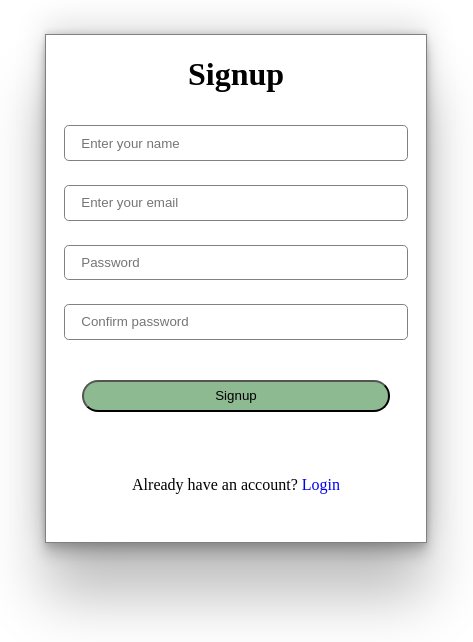
Test: testing login component › testing inputs of signup component
In the field with placeholder "Enter your name": {"x": 236, "y": 143} [64,125,408,161], type "rutik"
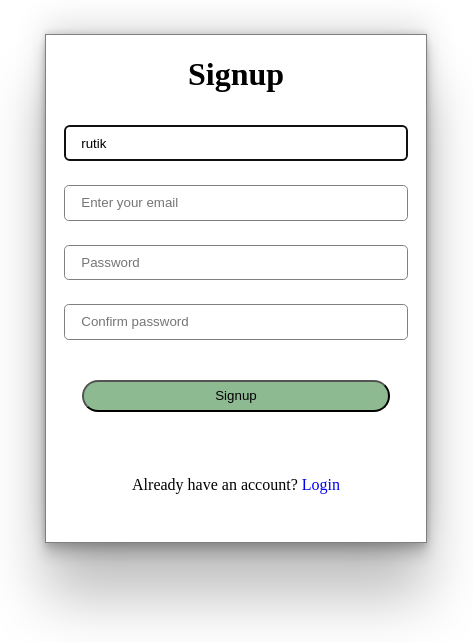
In the field with placeholder "Enter your email": {"x": 236, "y": 203} [64,185,408,221], type "rahul@gmail.com"
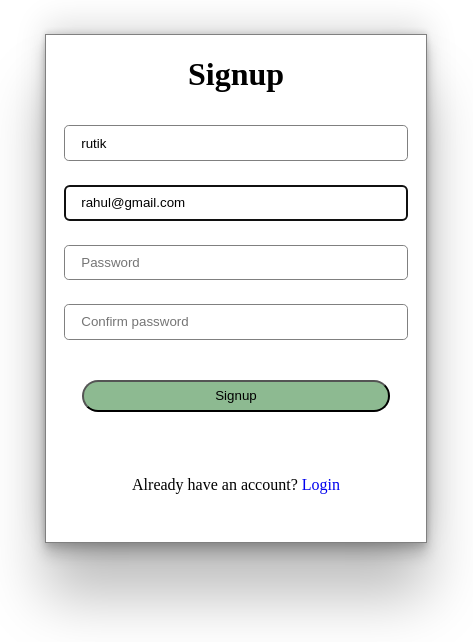
In the password field with placeholder "Password": {"x": 236, "y": 262} [64,245,408,280], type "Test@123"
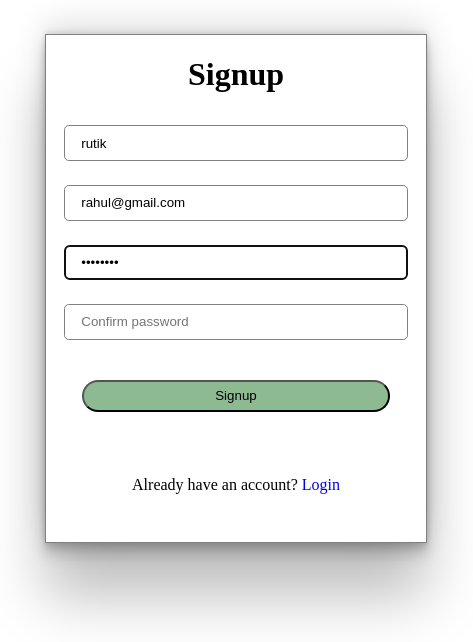
In the password field with placeholder "Confirm password": {"x": 236, "y": 322} [64,304,408,340], type "Test@123"
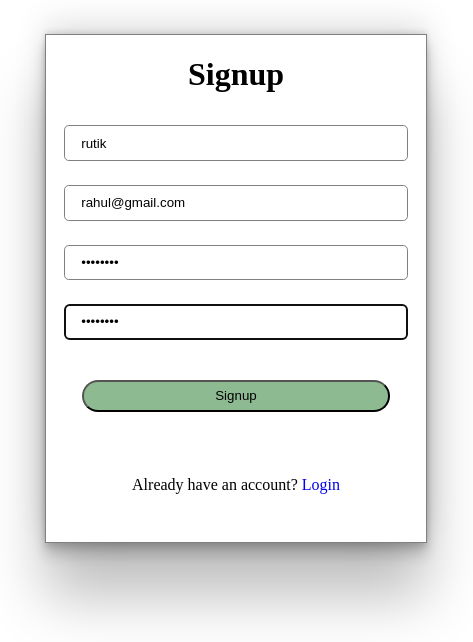
Click the button: {"x": 236, "y": 396} [82,380,390,412]
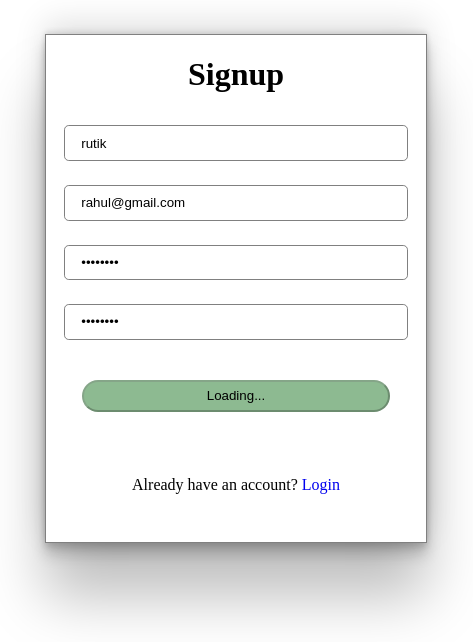
Expected: the button "Loading..." is shown, [82,380,390,412]
